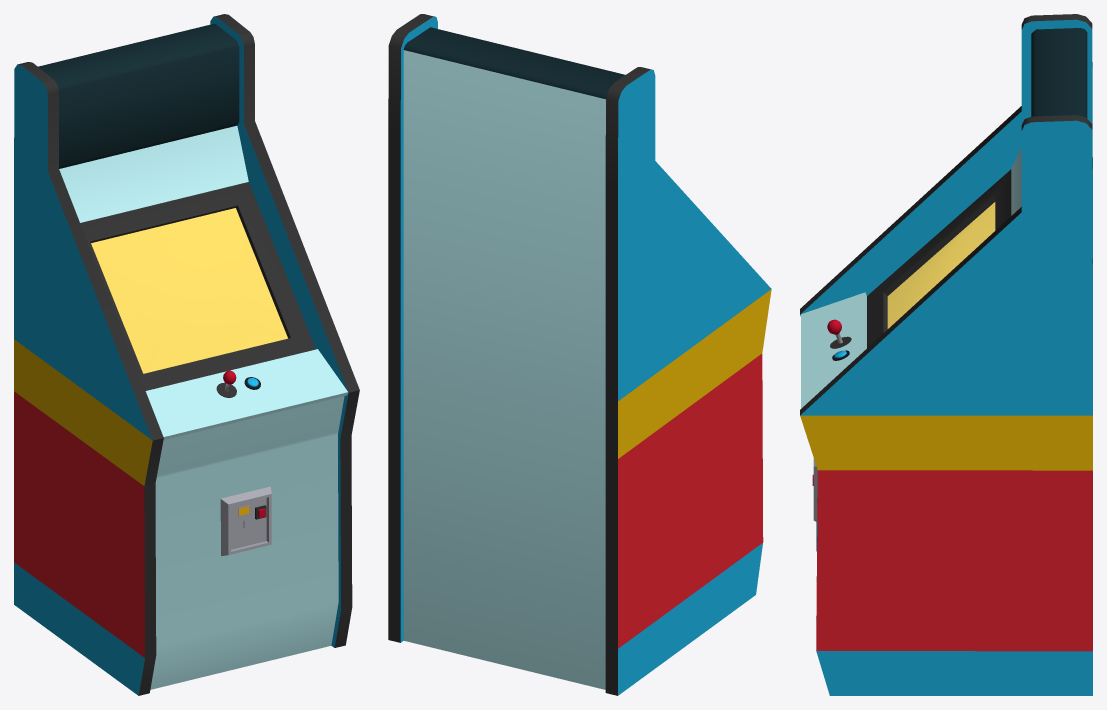
The model's file is ArcadeCabinetA.glb.
3 renders of one model, left to right at view 1: azimuth 30°, elevation 25°; view 2: azimuth 150°, elevation 25°; view 3: azimuth 270°, elevation 25°, orthographic. The views are drawn at different scales.
Parts seen in each view (by area): view 1: Arcade_Cabinet.004; view 2: Arcade_Cabinet.004; view 3: Arcade_Cabinet.004.
Part boxes in pixels (x1,y1,x2,y2): Arcade_Cabinet.004: [14, 14, 359, 695]; Arcade_Cabinet.004: [388, 14, 771, 695]; Arcade_Cabinet.004: [800, 14, 1092, 695].
Bounding box in the file's own units: 0.8042 × 2.02 × 0.9328.
Materials: 2 (2 with a texture image).
